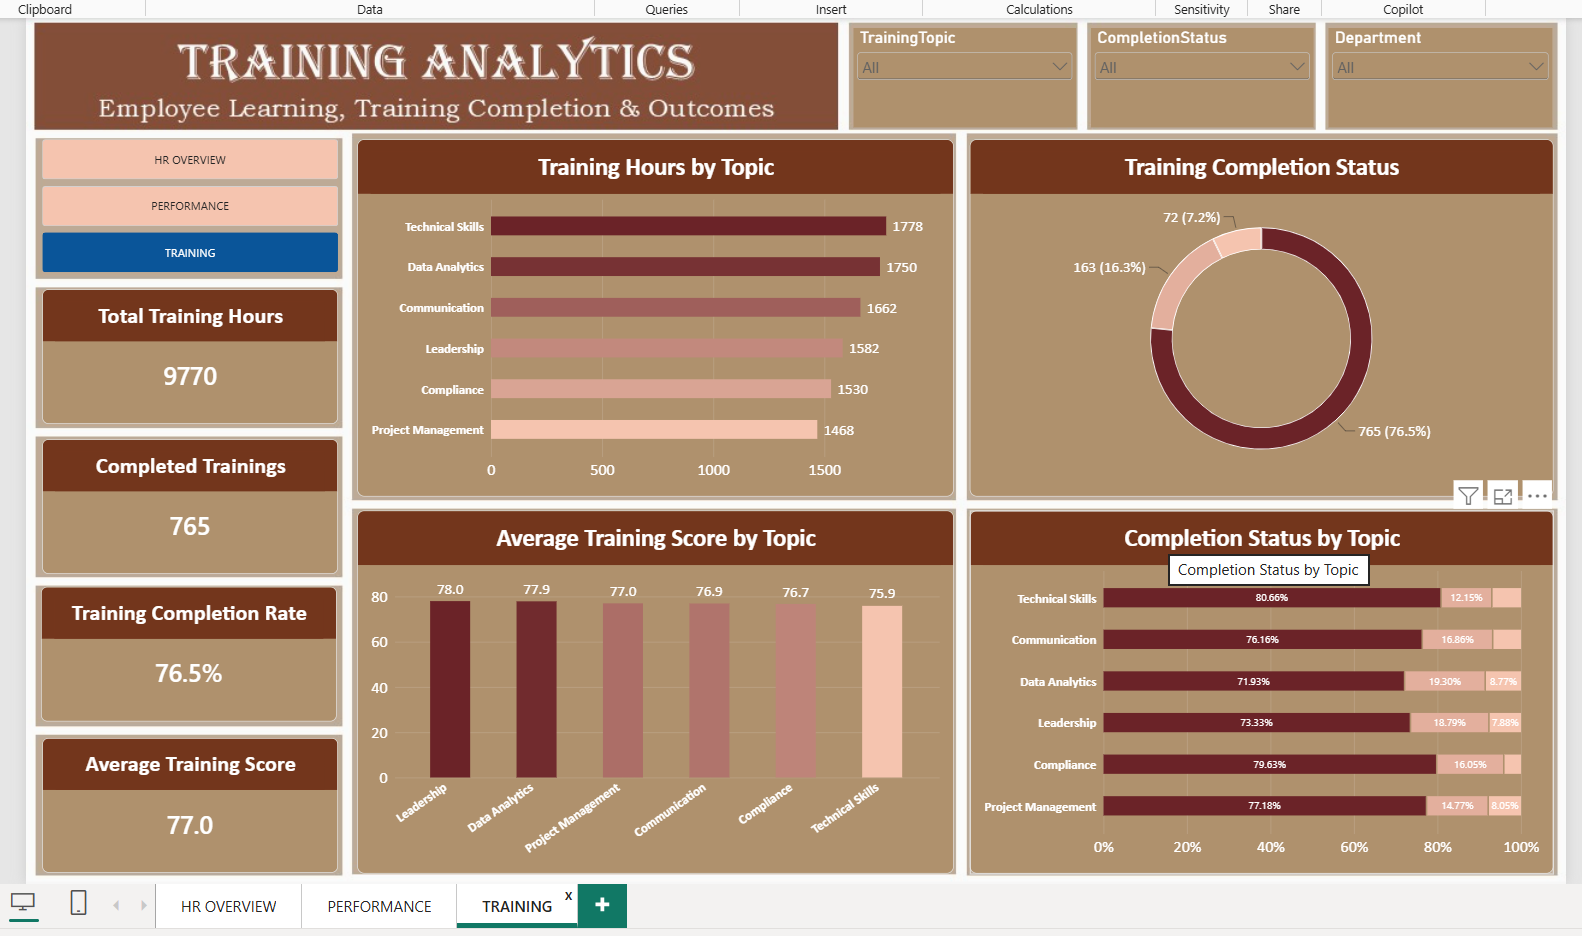

The page's visual inventory and layout, read from the dashboard file:
{"tool":"powerbi","page":{"name":"TRAINING","canvas":[1920,1080],"ordinal":2},"visuals":[{"type":"pageNavigator","box":[19.8,150.9,369.2,167.7],"z":0},{"type":"slicer","fields":{"Values":["Training_Table.TrainingTopic"]},"box":[1031.5,11.9,277.8,123.6],"z":1},{"type":"slicer","fields":{"Values":["Training_Table.CompletionStatus"]},"box":[1327.9,11.9,277.8,123.6],"z":2},{"type":"slicer","fields":{"Values":["Employees_Table.Department"]},"box":[1624.3,11.9,279.5,123.6],"z":3},{"type":"clusteredColumnChart","title":"Average Training Score by Topic","fields":{"Category":["Training_Table.TrainingTopic"],"Y":["calculated_table.Average Training Score"]},"box":[413.3,614.5,743.9,452.8],"z":4},{"type":"card","title":"Total Training Hours","fields":{"Values":["calculated_table.Total Training Hours"]},"box":[19.5,338.7,369,168],"z":5},{"type":"card","title":"Completed Trainings","fields":{"Values":["calculated_table.Completed Trainings"]},"box":[19.8,524.7,369,168],"z":6},{"type":"card","title":"Training Completion Rate","fields":{"Values":["calculated_table.Training Completion Rate"]},"box":[18,709.7,369,168],"z":7},{"type":"card","title":"Average Training Score","fields":{"Values":["calculated_table.Average Training Score"]},"box":[19.8,898.4,369,168],"z":8},{"type":"clusteredBarChart","title":"Training Hours by Topic","fields":{"Category":["Training_Table.TrainingTopic"],"Y":["calculated_table.Total Training Hours"]},"box":[413.3,150.9,743.9,445.6],"z":9},{"type":"donutChart","title":"Training Completion Status","fields":{"Category":["Training_Table.CompletionStatus"],"Y":["CountNonNull(Training_Table.TrainingRecordID)"]},"box":[1176.9,150.9,727.7,445.6],"z":10},{"type":"hundredPercentStackedBarChart","title":"Completion Status by Topic","fields":{"Category":["Training_Table.TrainingTopic"],"Series":["Training_Table.CompletionStatus"],"Y":["CountNonNull(Training_Table.TrainingRecordID)"]},"box":[1176.9,614.5,727.7,452.8],"z":11}]}

Visuals, with their boxes on the page's 1920x1080 design canvas (x1, y1, x2, y2). These are canvas units, not pixel positions in the 1582x936 screenshot, which may show the page scaled, cropped or inside an application window:
pageNavigator: region(20, 151, 389, 319)
slicer - Training_Table.TrainingTopic: region(1032, 12, 1309, 136)
slicer - Training_Table.CompletionStatus: region(1328, 12, 1606, 136)
slicer - Employees_Table.Department: region(1624, 12, 1904, 136)
"Average Training Score by Topic" clusteredColumnChart: region(413, 614, 1157, 1067)
"Total Training Hours" card: region(20, 339, 388, 507)
"Completed Trainings" card: region(20, 525, 389, 693)
"Training Completion Rate" card: region(18, 710, 387, 878)
"Average Training Score" card: region(20, 898, 389, 1066)
"Training Hours by Topic" clusteredBarChart: region(413, 151, 1157, 596)
"Training Completion Status" donutChart: region(1177, 151, 1905, 596)
"Completion Status by Topic" hundredPercentStackedBarChart: region(1177, 614, 1905, 1067)
